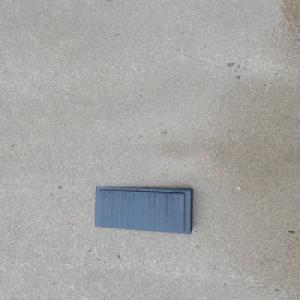PlasticPart: (94, 185, 194, 234)
